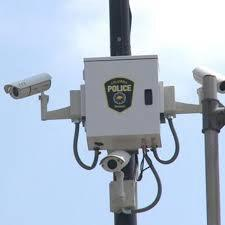Speed-Camera: (3, 48, 175, 152), (74, 54, 169, 206), (76, 53, 225, 149)
